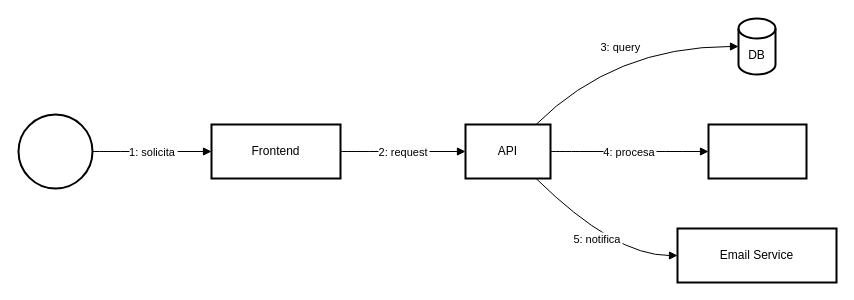
Image size: 854x300. Some labels were removed from this diagram. The box of each missing label's shape, as (x1, y1, x2, y2) in pixels:
Pago: (707, 123, 807, 179)
Usuario: (17, 113, 93, 189)
